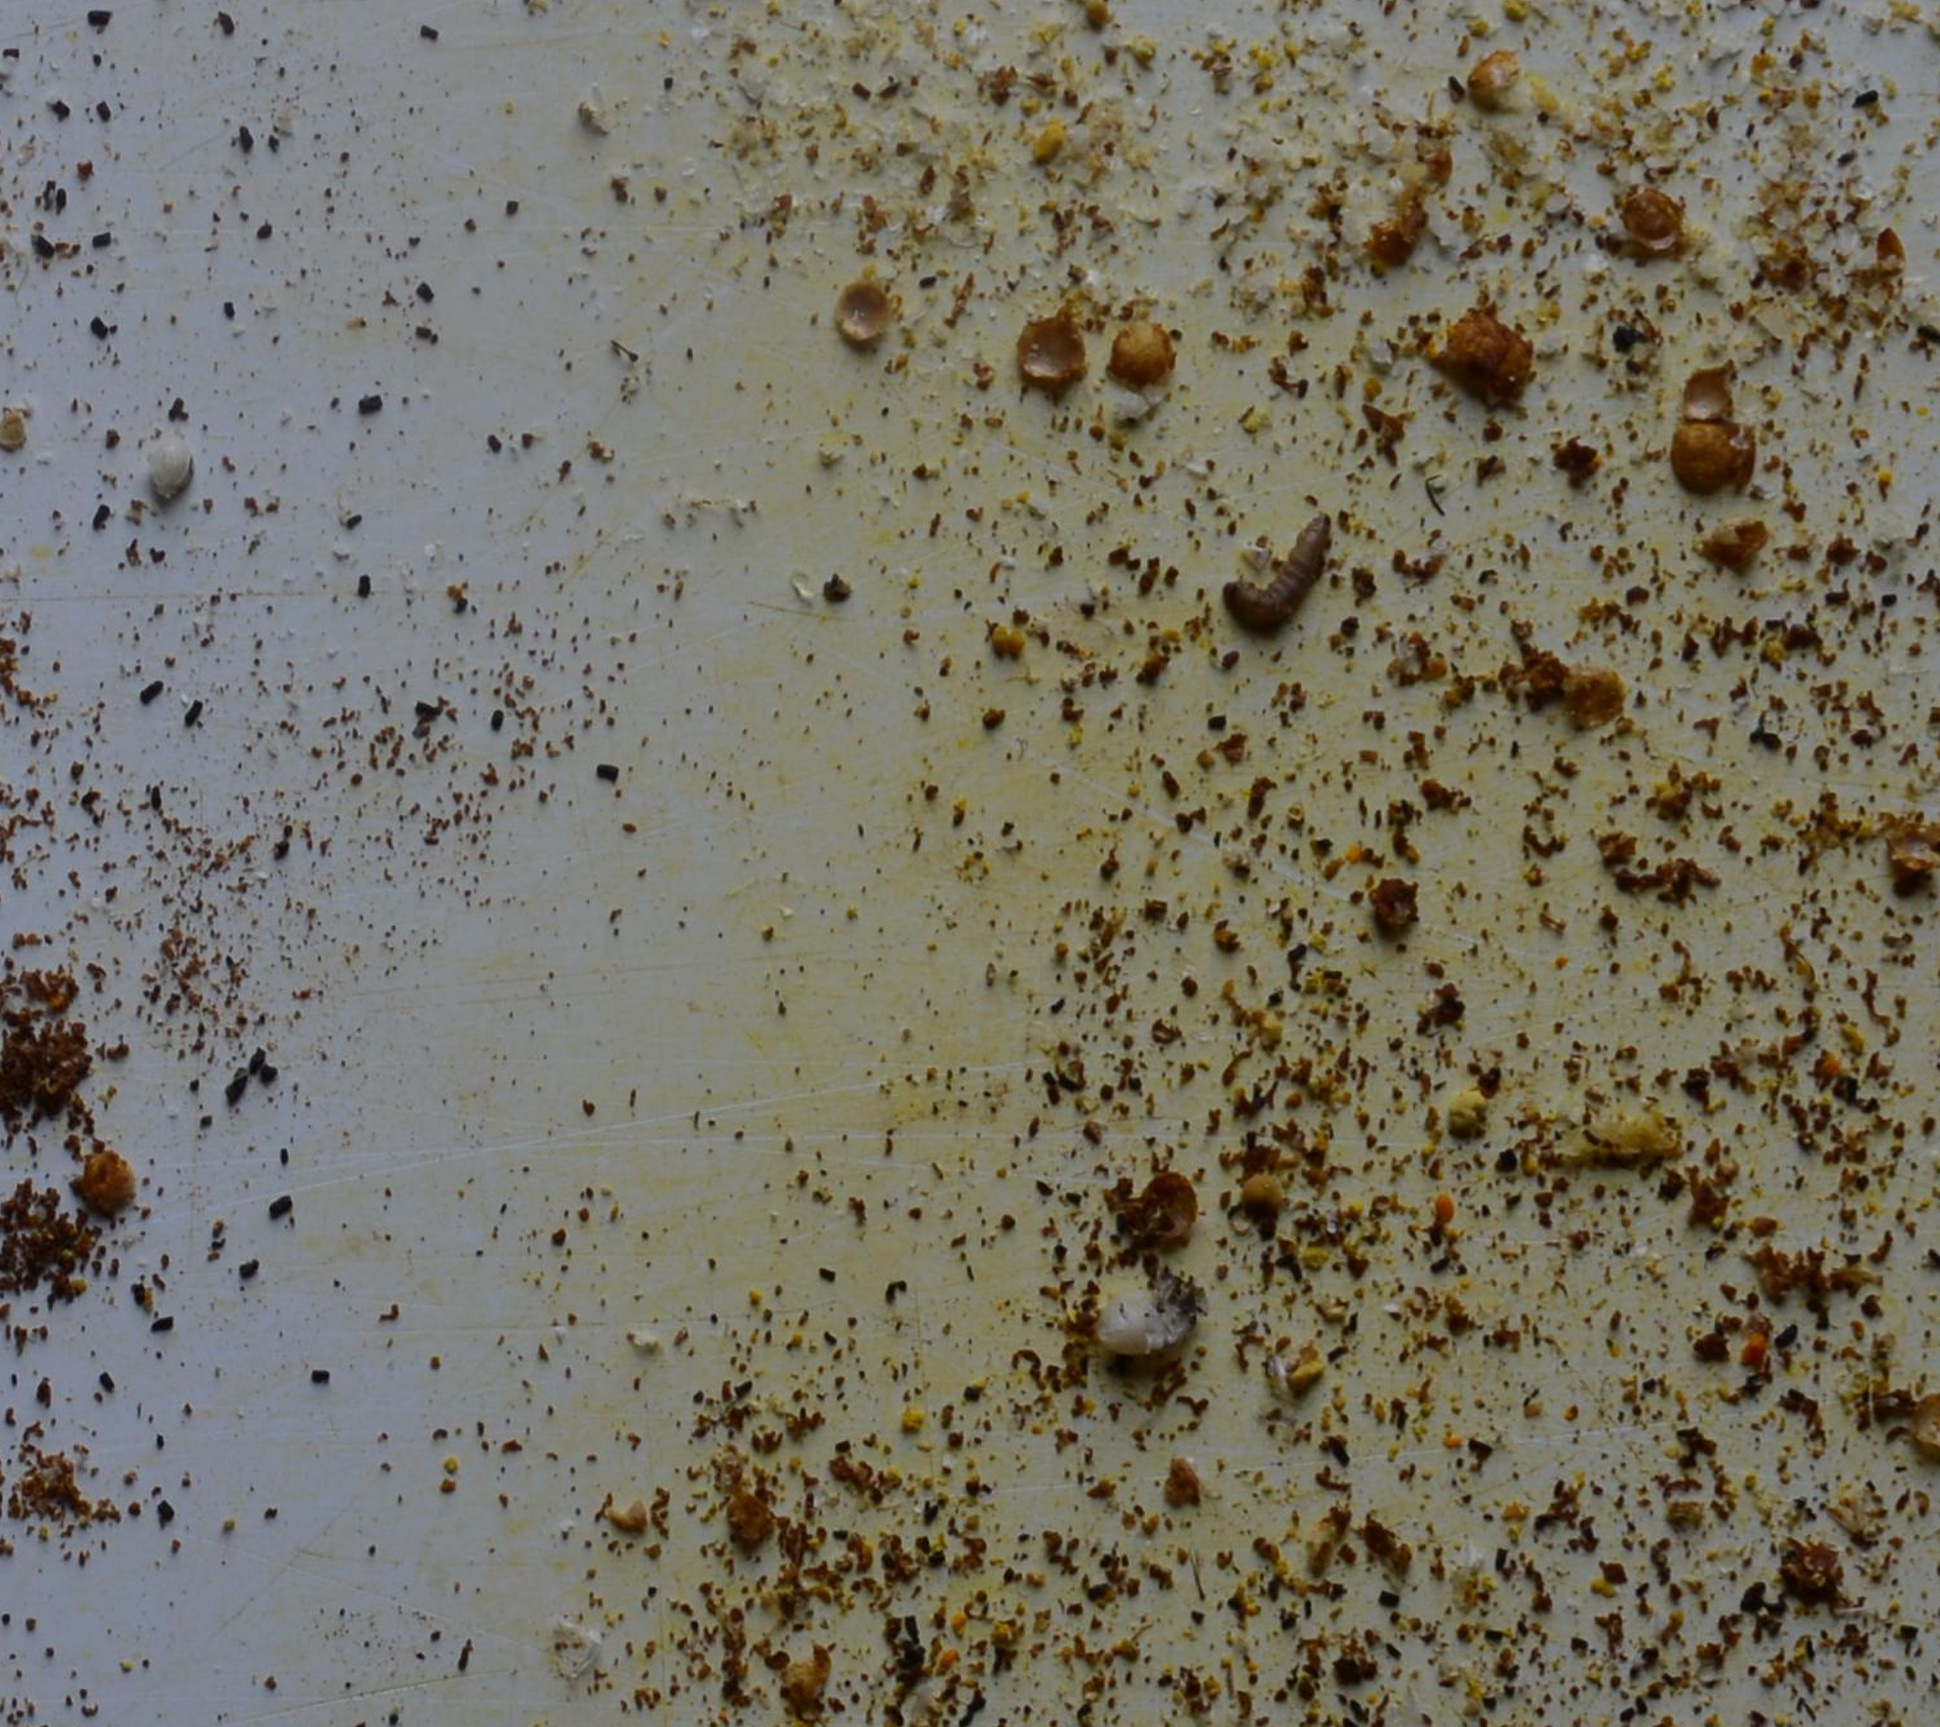Varroa: (762, 1654, 792, 1684)
